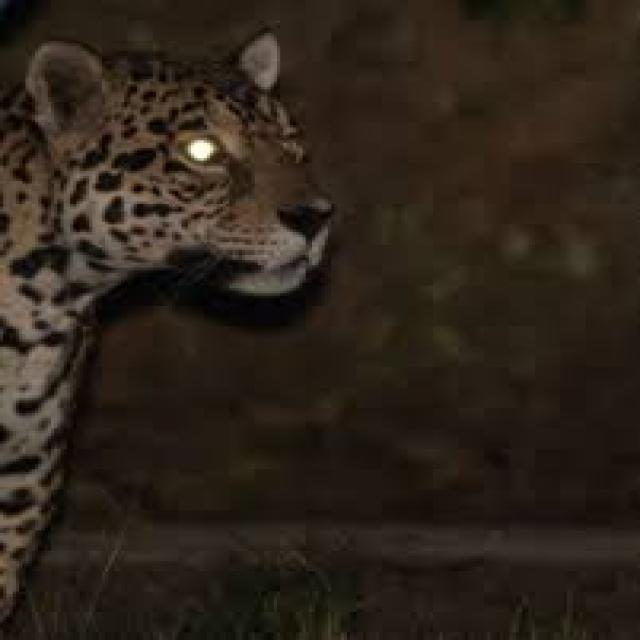Jaguar: (0, 23, 341, 640)
